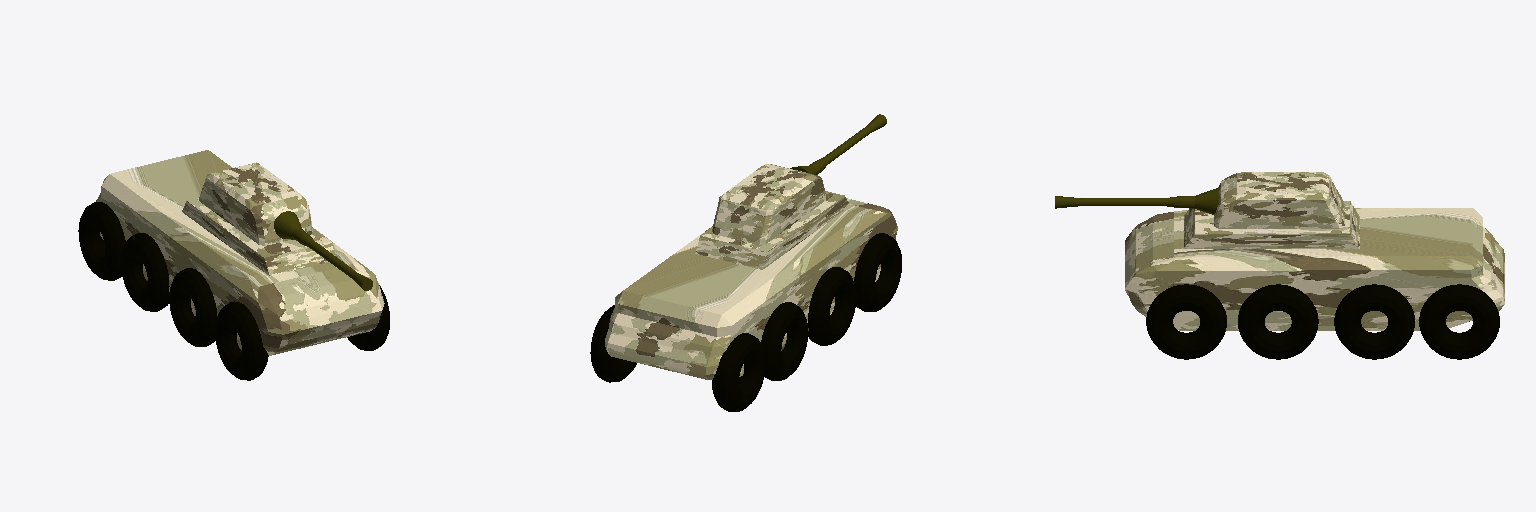
3 renders of one model, left to right at view 1: azimuth 30°, elevation 25°; view 2: azimuth 150°, elevation 25°; view 3: azimuth 270°, elevation 25°, orthographic.
Parts seen in each view (by area): view 1: Cubo.002, Rosca.015, Cubo.004, Cilindro.001; view 2: Cubo.002, Rosca.015, Cubo.004, Cilindro.001; view 3: Cubo.002, Rosca.015, Cubo.004, Cilindro.001.
Part boxes in pixels (bbox=[...]): Cubo.002: bbox=[96, 150, 384, 355]; Rosca.015: bbox=[78, 202, 389, 380]; Cubo.004: bbox=[199, 162, 312, 245]; Cilindro.001: bbox=[274, 211, 372, 290]; Cubo.002: bbox=[605, 191, 897, 379]; Rosca.015: bbox=[590, 233, 901, 411]; Cubo.004: bbox=[712, 164, 825, 244]; Cilindro.001: bbox=[790, 114, 886, 174]; Cubo.002: bbox=[1125, 201, 1504, 330]; Rosca.015: bbox=[1146, 284, 1499, 359]; Cubo.004: bbox=[1214, 172, 1344, 228]; Cilindro.001: bbox=[1055, 188, 1218, 214].
Bounding box in the file's own units: 9.29 × 8.92 × 25.
Materials: 4 (1 with a texture image).